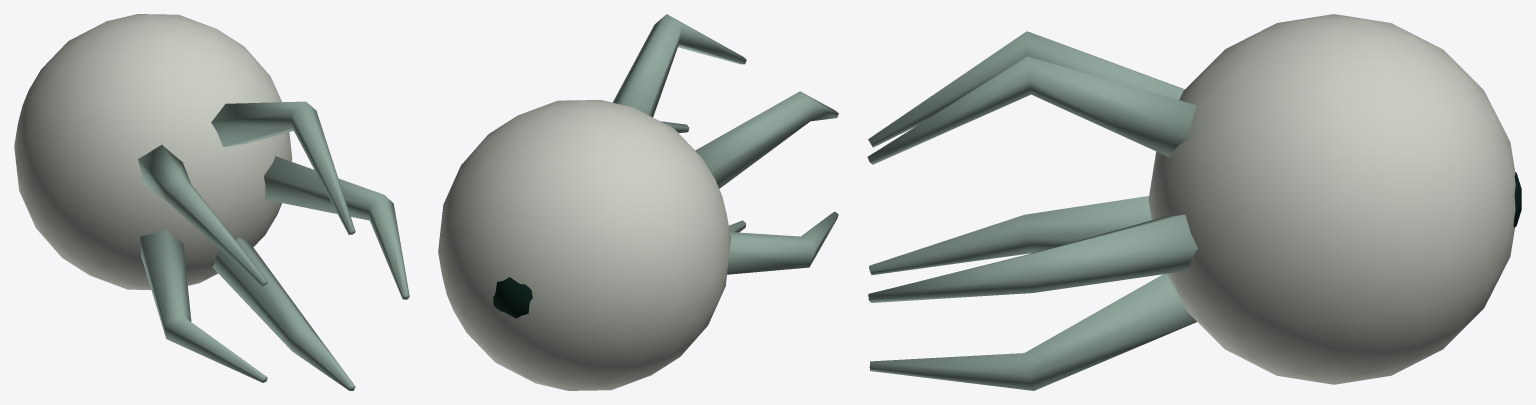
The model's file is true_eye_of_cthulhu.glb.
The picture shows the model from 3 angles, left to right: view 1: azimuth 30°, elevation 25°; view 2: azimuth 150°, elevation 25°; view 3: azimuth 270°, elevation 25°; orthographic projection. The views are drawn at different scales.
Visible parts, largest first — view 1: true_eye_of_cthulhu; view 2: true_eye_of_cthulhu; view 3: true_eye_of_cthulhu.
Part boxes in pixels (x1,y1,x2,y2): true_eye_of_cthulhu: [14, 14, 409, 390]; true_eye_of_cthulhu: [438, 14, 838, 390]; true_eye_of_cthulhu: [867, 14, 1521, 390].
Bounding box in the file's own units: 1.43 × 1.4 × 2.47.
